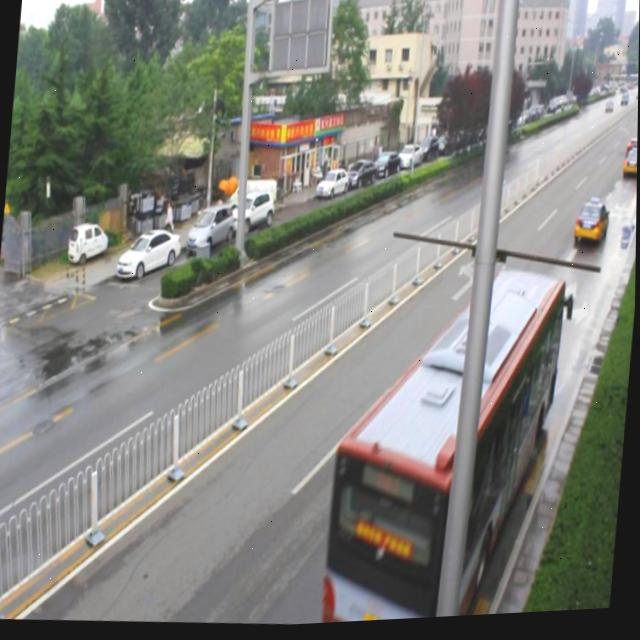car: (572, 201, 609, 253)
van: (318, 251, 567, 627)
